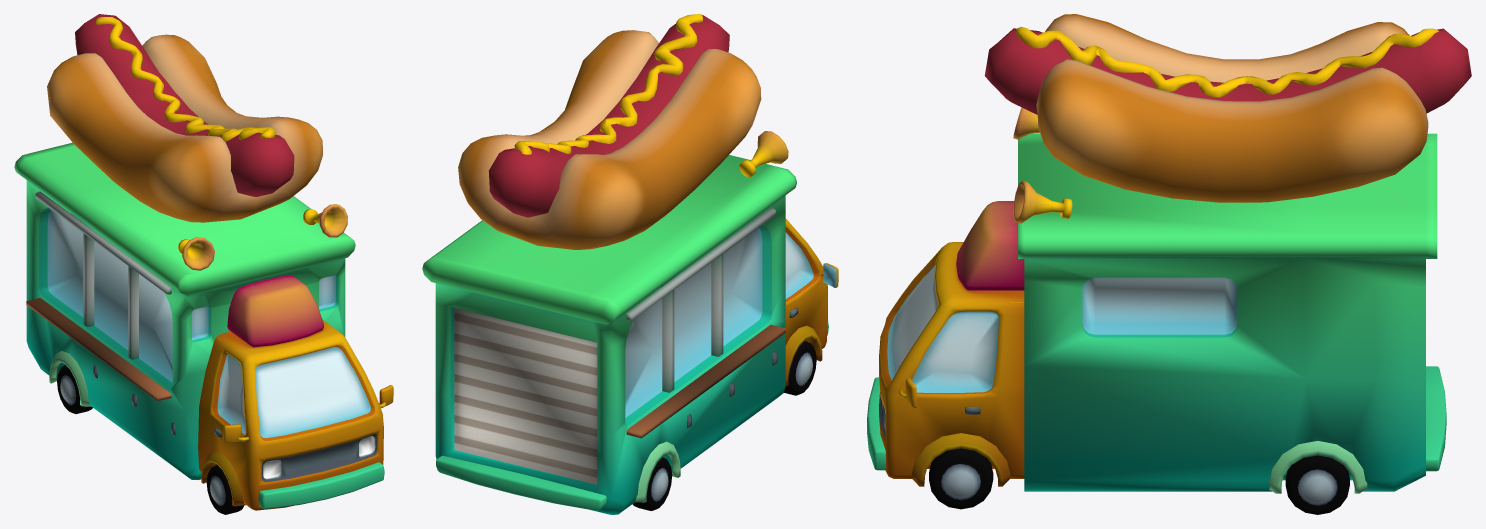
The model's file is Food Truck.fbx.
3 renders of one model, left to right at view 1: azimuth 30°, elevation 25°; view 2: azimuth 150°, elevation 25°; view 3: azimuth 270°, elevation 25°, orthographic. The views are drawn at different scales.
Visible parts, largest first — view 1: Body, Wheels; view 2: Body, Wheels; view 3: Body, Wheels.
Part boxes in pixels (bbox=[...]): Body: bbox=[14, 14, 393, 510]; Wheels: bbox=[57, 365, 244, 514]; Body: bbox=[422, 14, 838, 514]; Wheels: bbox=[632, 341, 816, 510]; Body: bbox=[867, 14, 1471, 493]; Wheels: bbox=[929, 448, 1349, 514].
Bounding box in the file's own units: 309 × 562 × 701.
1 material, 1 textured.
